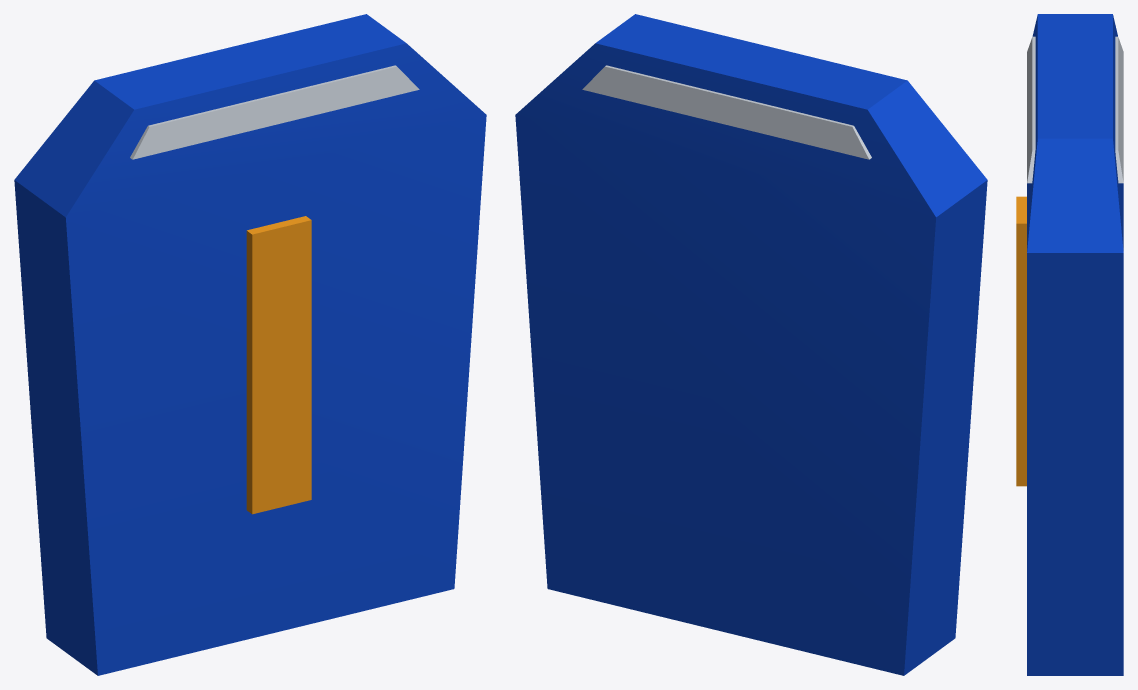
Rendered from Shield.glb.
3 renders of one model, left to right at view 1: azimuth 30°, elevation 25°; view 2: azimuth 150°, elevation 25°; view 3: azimuth 270°, elevation 25°, orthographic. The views are drawn at different scales.
Parts seen in each view (by area): view 1: shield_body, shield_emblem, shield_rim; view 2: shield_body, shield_rim; view 3: shield_body, shield_emblem, shield_rim.
Boxes of the visible parts, left/top/right/bottom form: shield_body: left=14, top=14, right=486, bottom=675; shield_emblem: left=246, top=216, right=311, bottom=514; shield_rim: left=130, top=65, right=419, bottom=159; shield_body: left=515, top=14, right=987, bottom=675; shield_rim: left=582, top=65, right=871, bottom=159; shield_body: left=1027, top=14, right=1123, bottom=675; shield_emblem: left=1016, top=196, right=1026, bottom=486; shield_rim: left=1027, top=36, right=1123, bottom=183.
Bounding box in the file's own units: 1.7 × 2.13 × 0.4.
